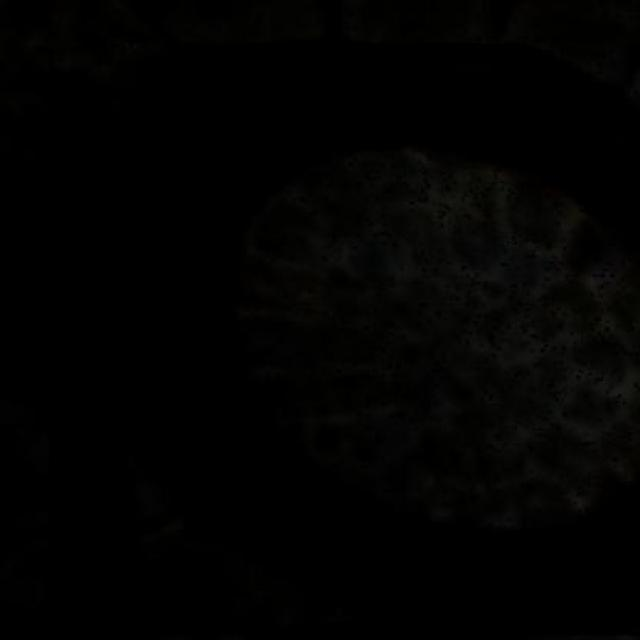Manhole: (49, 42, 640, 636)
